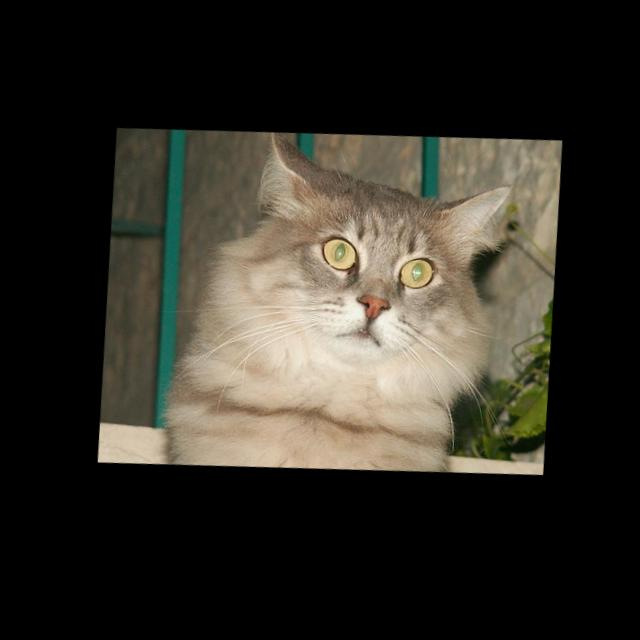animals: (257, 124, 515, 339)
